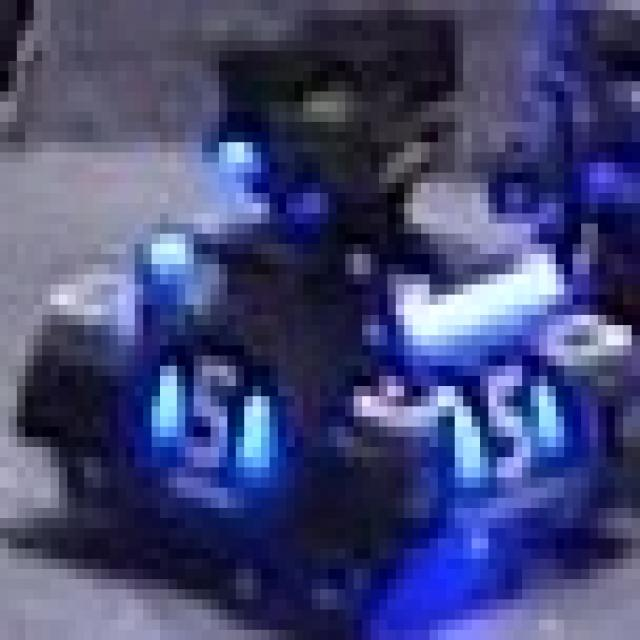B5: (135, 336, 261, 478), (446, 356, 556, 488)
